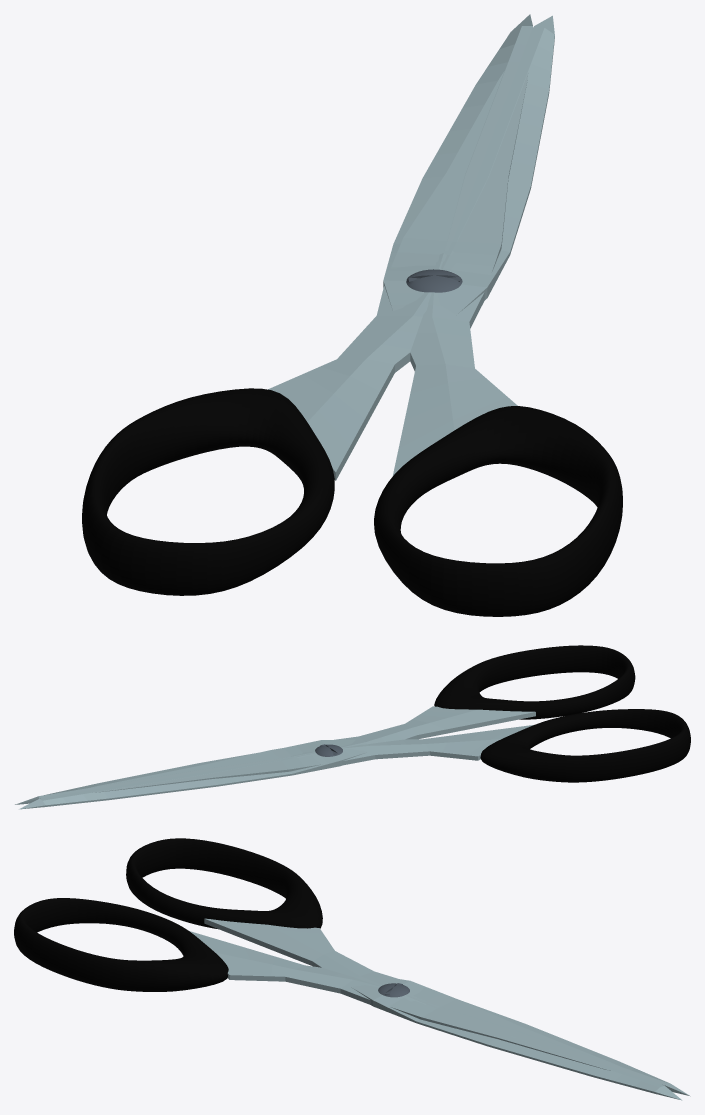
The model's file is scissors.gltf.
The picture shows the model from 3 angles, top to bottom: view 1: azimuth 30°, elevation 25°; view 2: azimuth 150°, elevation 25°; view 3: azimuth 270°, elevation 25°; orthographic projection. The views are drawn at different scales.
Visible parts, largest first — view 1: Cube.111, Cube.110, Sphere.068; view 2: Cube.110, Cube.111, Sphere.068; view 3: Cube.110, Cube.111.
Boxes of the visible parts, box(x1,y1,x2,y2) form: Cube.111: box(82, 15, 554, 595); Cube.110: box(374, 14, 622, 616); Sphere.068: box(406, 269, 462, 292); Cube.110: box(19, 645, 635, 809); Cube.111: box(15, 709, 690, 804); Sphere.068: box(315, 744, 342, 756); Cube.110: box(14, 898, 690, 1096); Cube.111: box(126, 838, 682, 1100).
Bounding box in the file's own units: 18.39 × 1.03 × 21.28.
